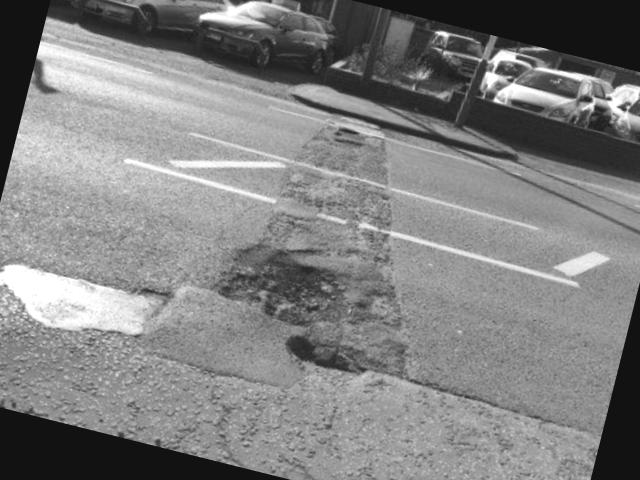Pothole: (178, 226, 412, 392), (0, 228, 187, 374), (264, 89, 428, 247)
